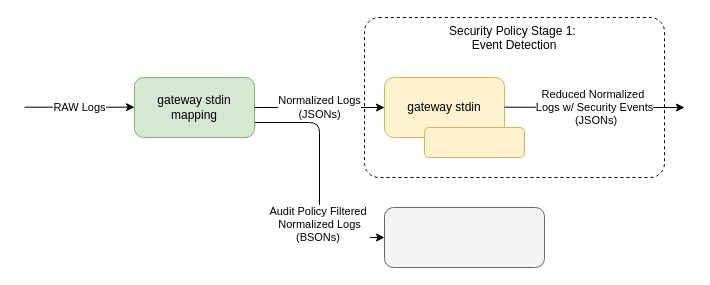
Some shapes in this 710 by 285 pixel diagram are drawn without their labels. Here are the shapes that lost their labels. From the top down, the centre of each, then its label:
At point 474,142: "security event mapping".
At point 464,237: "<Audit Policy Path>".
